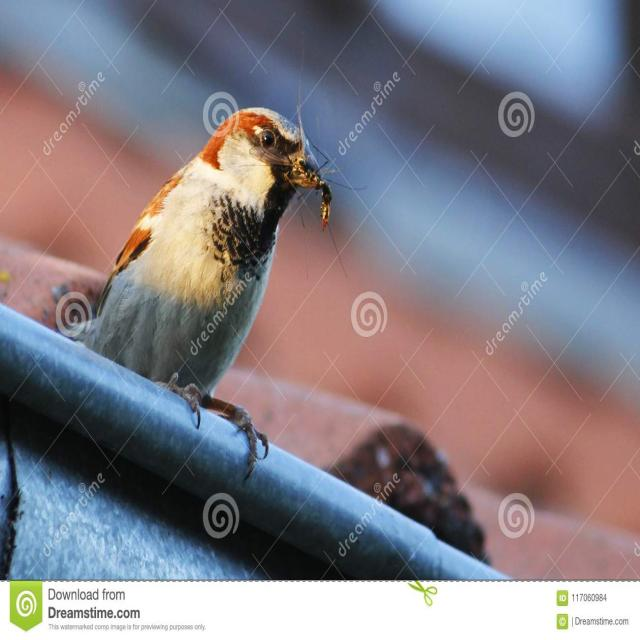bird: (61, 107, 332, 474)
